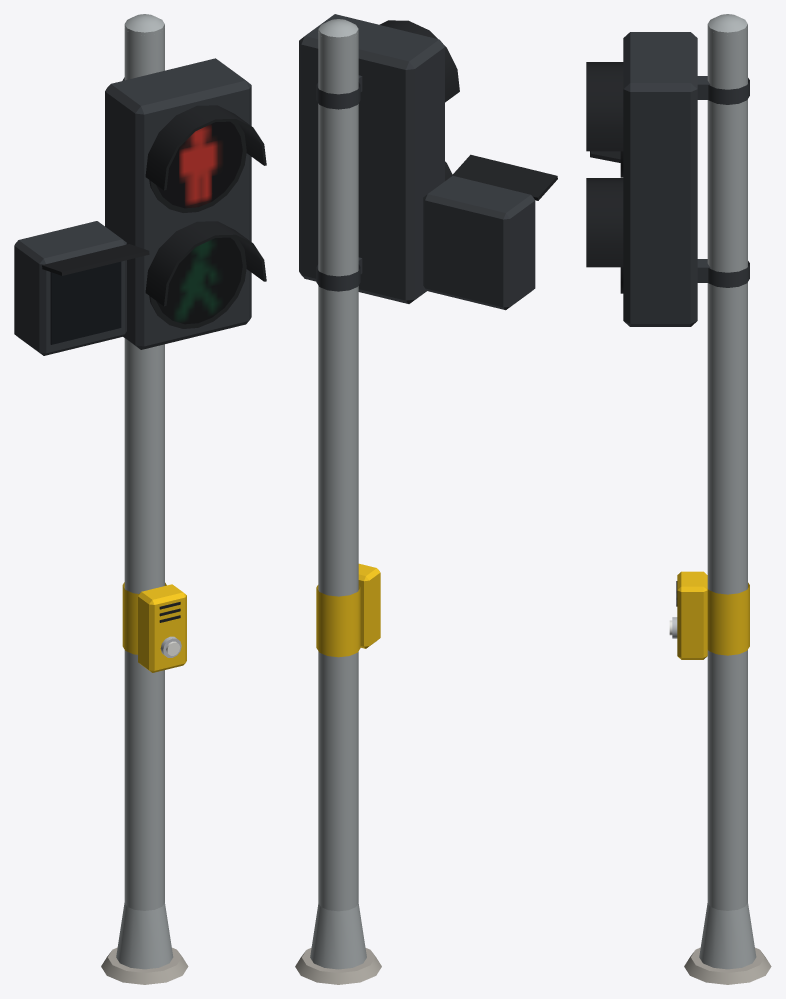
File: SC_Str_TrafficLight_Pedestrian_Red.gltf
3 views of the same model, side by side, from view 1: azimuth 30°, elevation 25°; view 2: azimuth 150°, elevation 25°; view 3: azimuth 270°, elevation 25° (orthographic).
Parts seen in each view (by area): view 1: SC_Str_TrafficLight_Pedestrian_Red; view 2: SC_Str_TrafficLight_Pedestrian_Red; view 3: SC_Str_TrafficLight_Pedestrian_Red.
Part boxes in pixels (x1,y1,x2,y2): SC_Str_TrafficLight_Pedestrian_Red: (14, 14, 266, 984); SC_Str_TrafficLight_Pedestrian_Red: (295, 14, 557, 984); SC_Str_TrafficLight_Pedestrian_Red: (586, 14, 771, 984).
Bounding box in the file's own units: 0.72 × 3.11 × 0.55.
3 materials, 3 textured.
